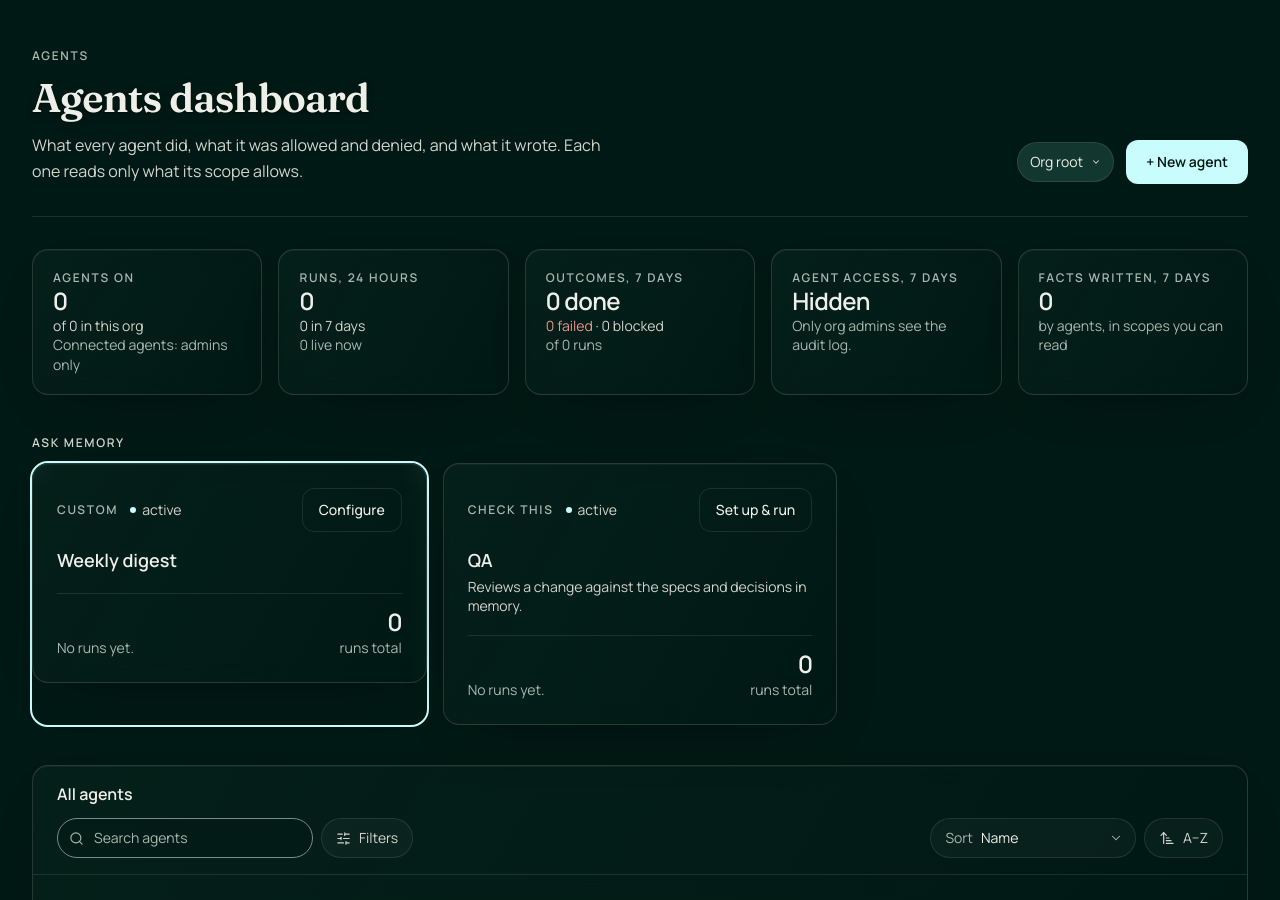
agents page Configuration panel › opens for an admin on an agent whose stored prompt is null
The width and height of the screenshot is (1280, 900).
Click the button "Configure": (352, 510) 302,488 -> 402,532
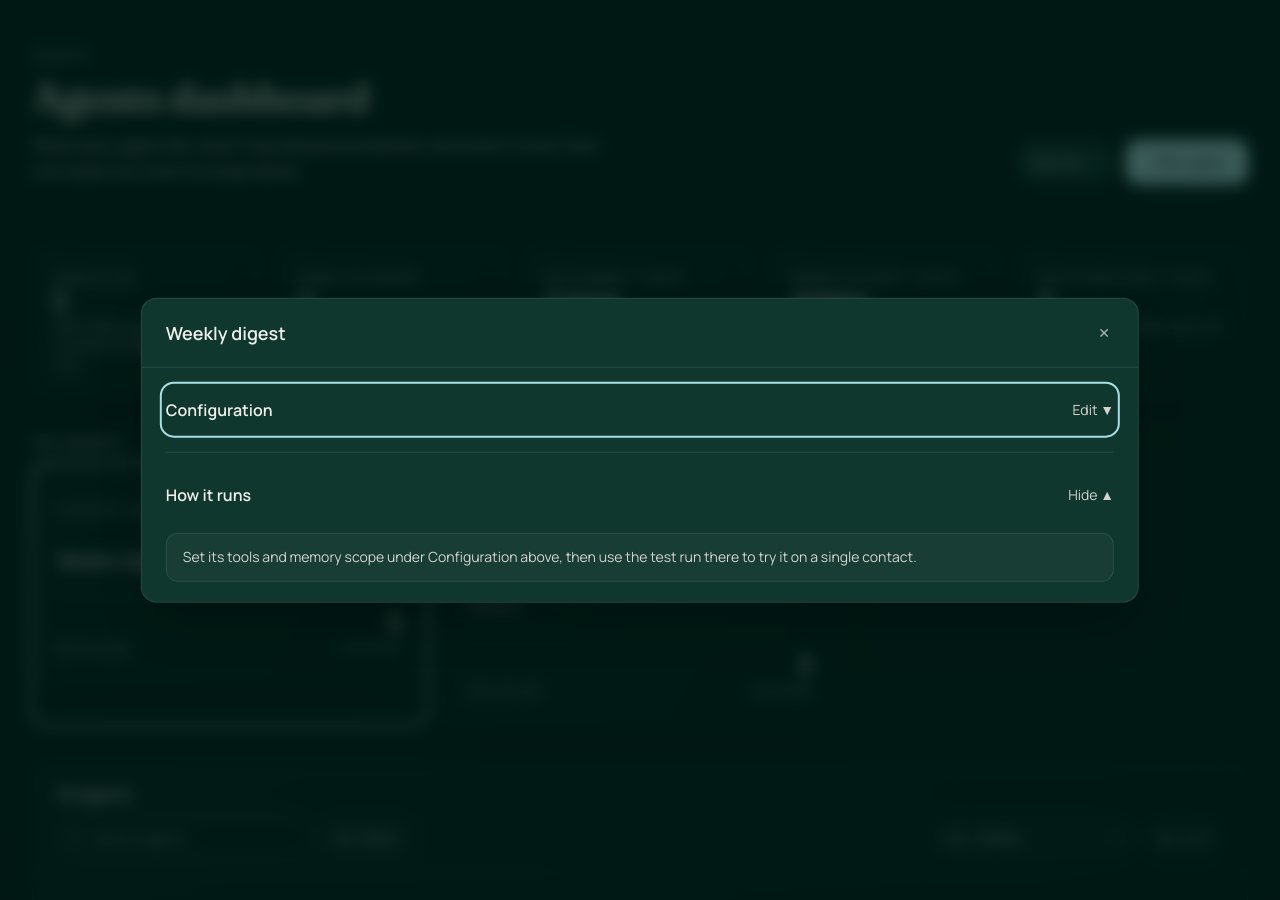
Expected: the button "+ New agent" is shown, 1126,140 -> 1248,184
Expected: the text "Configuration" is shown, 166,398 -> 273,422
